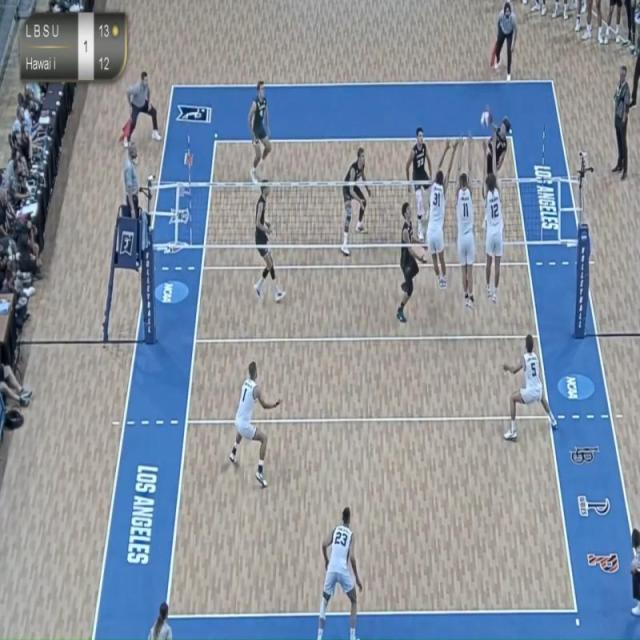volleyball: (478, 107, 492, 132)
